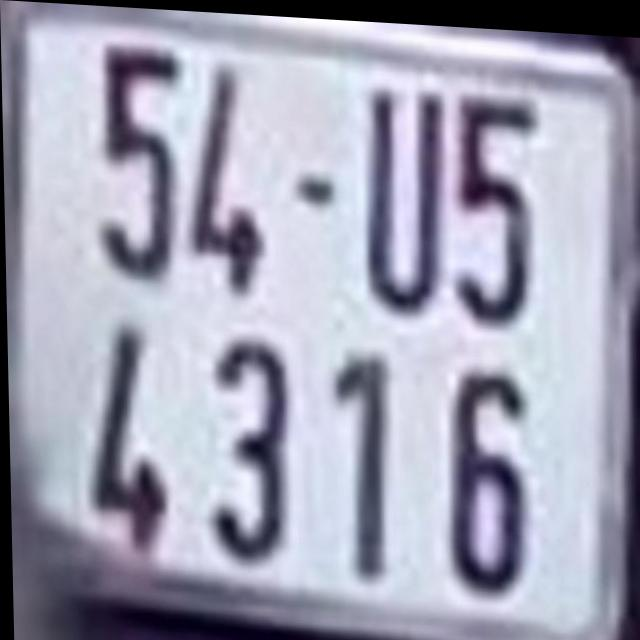1: (333, 342, 389, 578)
3: (212, 329, 287, 560)
4: (81, 319, 170, 550), (189, 59, 266, 295)
5: (456, 81, 544, 324), (98, 38, 183, 281)
6: (441, 363, 530, 588)
U: (358, 71, 450, 312)
